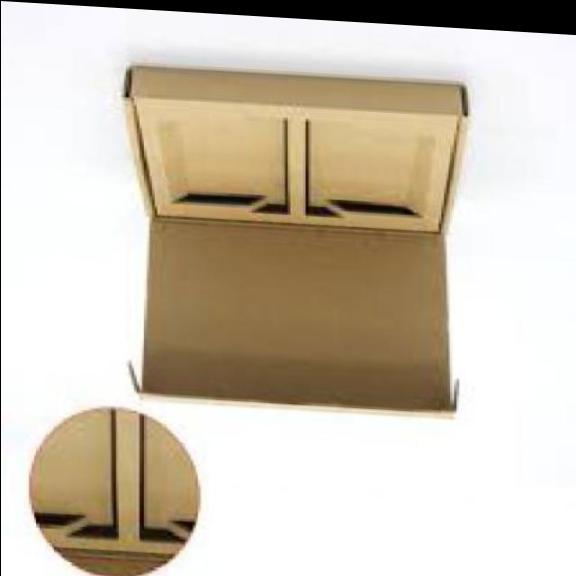Kertas: (123, 66, 467, 418)
